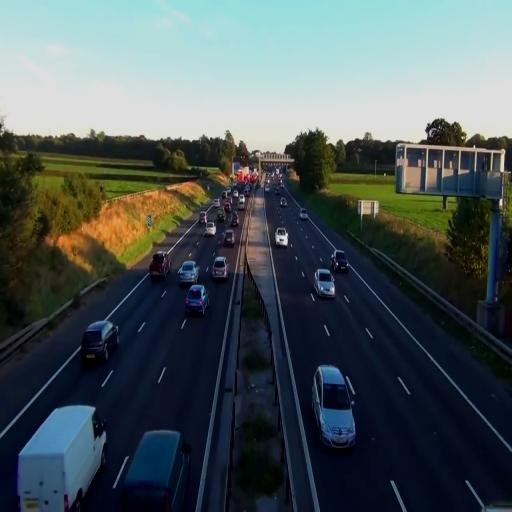vehicle: (17, 403, 108, 511), (18, 404, 108, 512), (117, 428, 192, 512), (118, 429, 192, 512), (312, 365, 358, 450), (82, 318, 119, 364), (186, 284, 209, 316), (313, 267, 336, 299), (150, 250, 170, 280), (178, 260, 198, 288), (211, 254, 229, 281), (331, 250, 349, 274), (274, 226, 289, 248), (204, 211, 217, 236), (222, 227, 238, 247), (204, 218, 217, 236), (299, 210, 308, 220)
